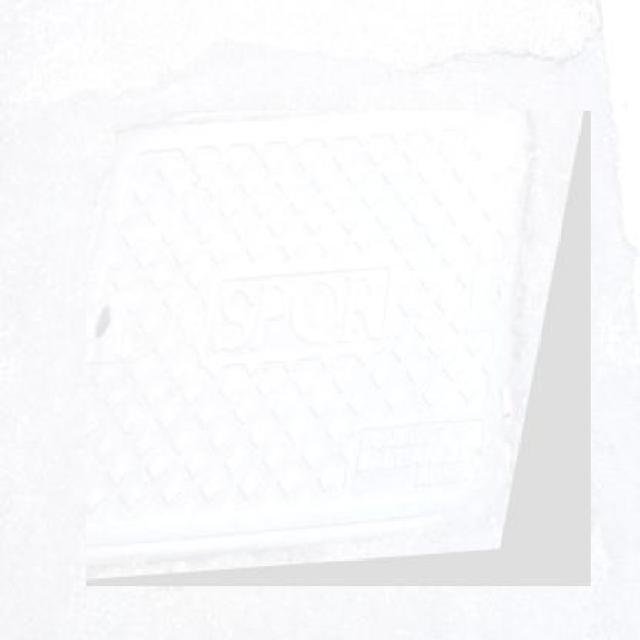Manhole: (86, 110, 591, 586)
